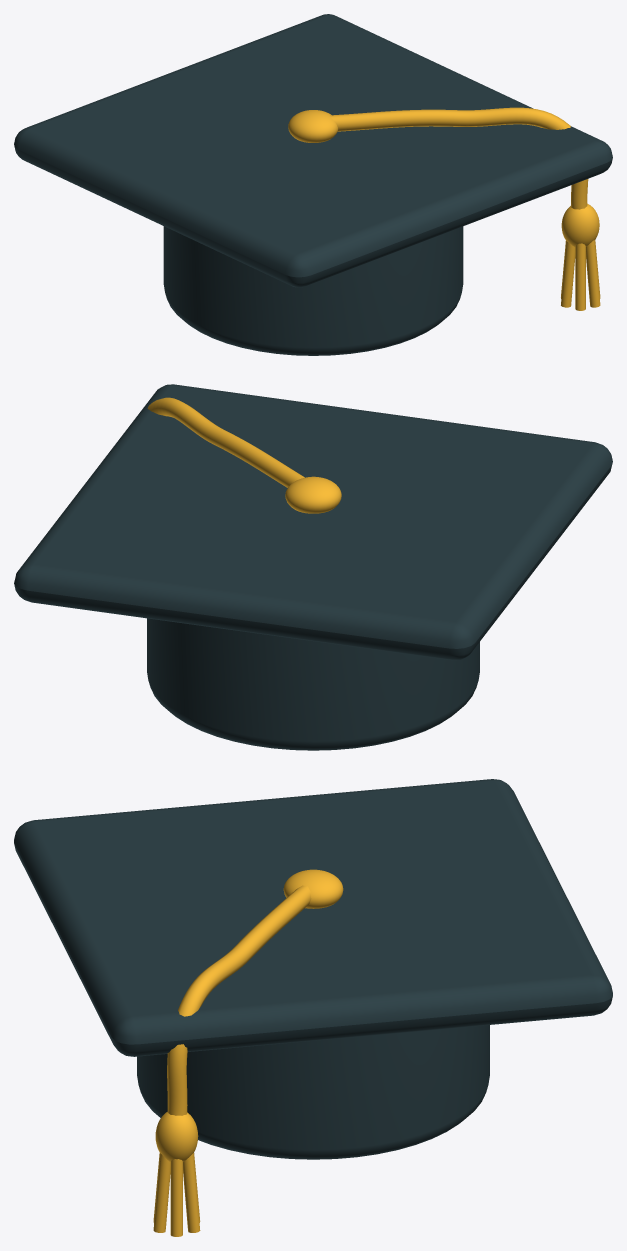
The model's file is grad-cap.glb.
3 renders of one model, top to bottom at view 1: azimuth 30°, elevation 25°; view 2: azimuth 150°, elevation 25°; view 3: azimuth 270°, elevation 25°, orthographic. The views are drawn at different scales.
Visible parts, largest first — view 1: Square mortarboard, Rounded cap skull, Gold tassel cord, Gold tassel button, Tassel knot, Tassel strand 4, Tassel strand 5, Tassel strand 3; view 2: Square mortarboard, Rounded cap skull, Gold tassel cord, Gold tassel button; view 3: Square mortarboard, Rounded cap skull, Gold tassel cord, Tassel knot, Gold tassel button, Tassel strand 0, Tassel strand 5, Tassel strand 1.
Boxes of the visible parts, x1,y1,x2,y2 form: Square mortarboard: (14, 14, 612, 287); Rounded cap skull: (163, 226, 463, 355); Gold tassel cord: (330, 107, 588, 209); Gold tassel button: (288, 110, 338, 142); Tassel knot: (561, 203, 599, 246); Tassel strand 4: (575, 243, 585, 310); Tassel strand 5: (586, 240, 600, 307); Tassel strand 3: (561, 241, 575, 307); Square mortarboard: (14, 384, 612, 660); Rounded cap skull: (147, 618, 479, 750); Gold tassel cord: (147, 397, 304, 487); Gold tassel button: (285, 476, 341, 513); Square mortarboard: (14, 779, 612, 1056); Rounded cap skull: (137, 1025, 489, 1159); Gold tassel cord: (167, 885, 311, 1115); Tassel knot: (155, 1112, 198, 1161); Gold tassel button: (283, 869, 343, 908); Tassel strand 0: (170, 1159, 182, 1236); Tassel strand 5: (153, 1153, 170, 1232); Tassel strand 1: (183, 1153, 200, 1232).
Size of the model in its own units: 4.27 by 1.8 by 4.19.
